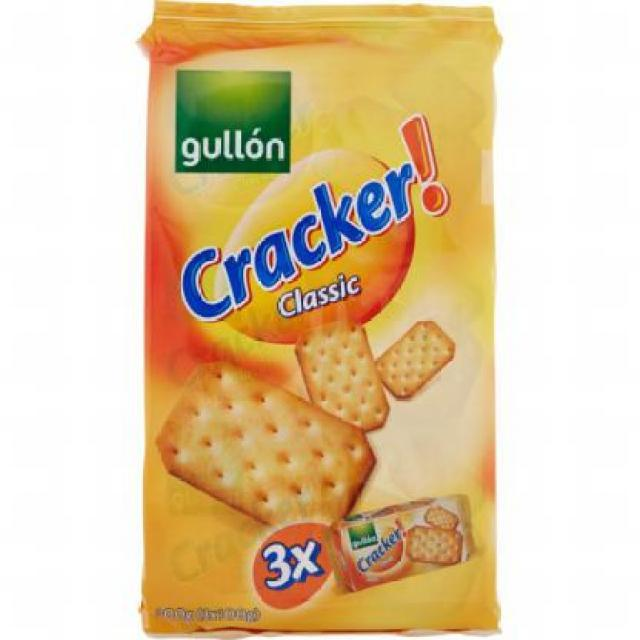Cracker: (133, 7, 510, 638)
